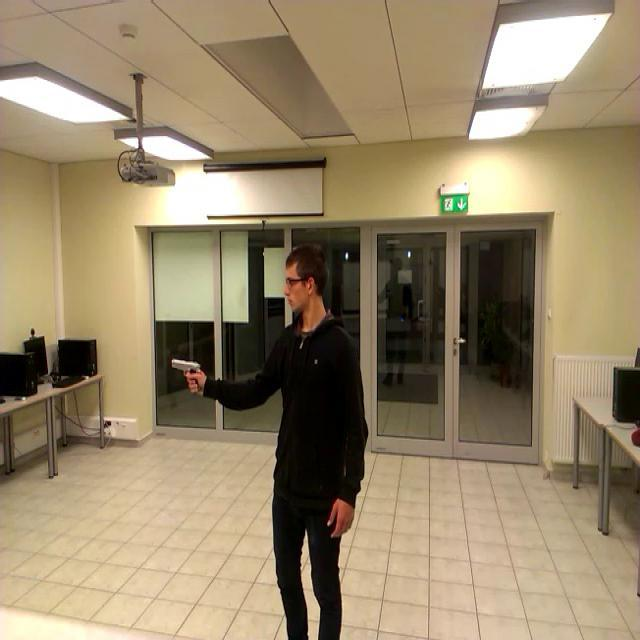Gun: (171, 357, 200, 390)
